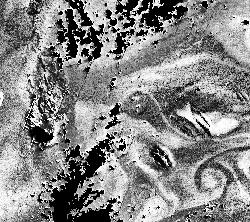CE: (182, 159, 229, 205)
